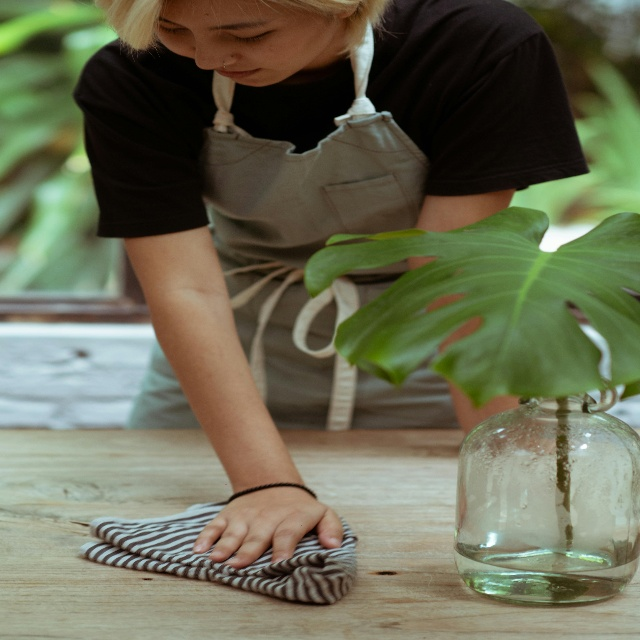Sin_guantes: (194, 502, 343, 557)
